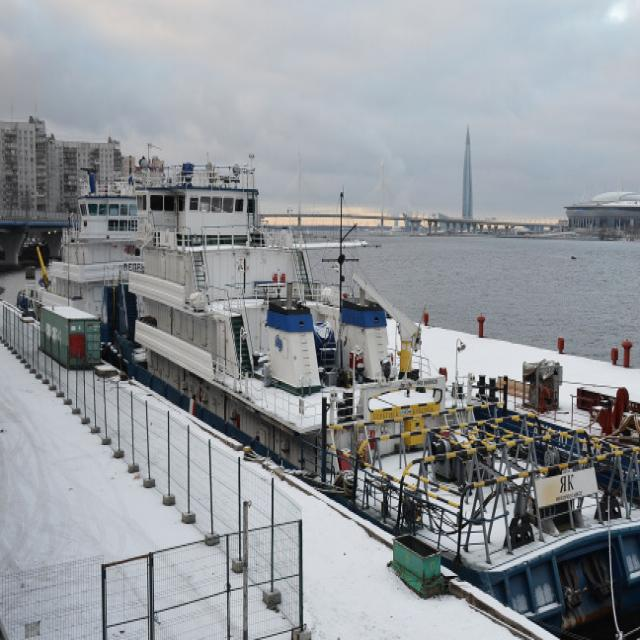tugboat: (320, 358, 640, 640)
